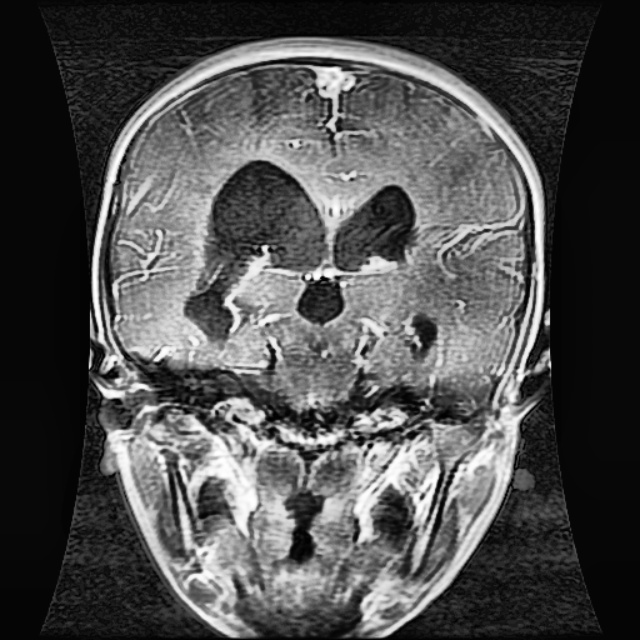Meningioma: (182, 155, 324, 349)
